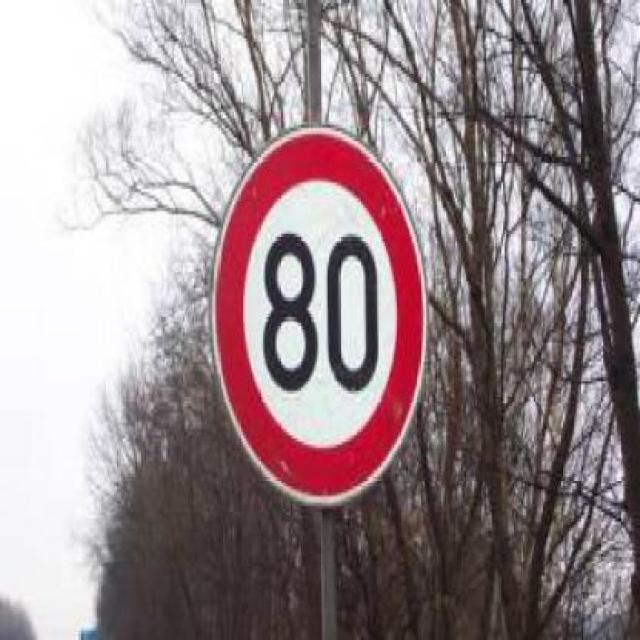forb_speed_over_80: (216, 118, 427, 504)
